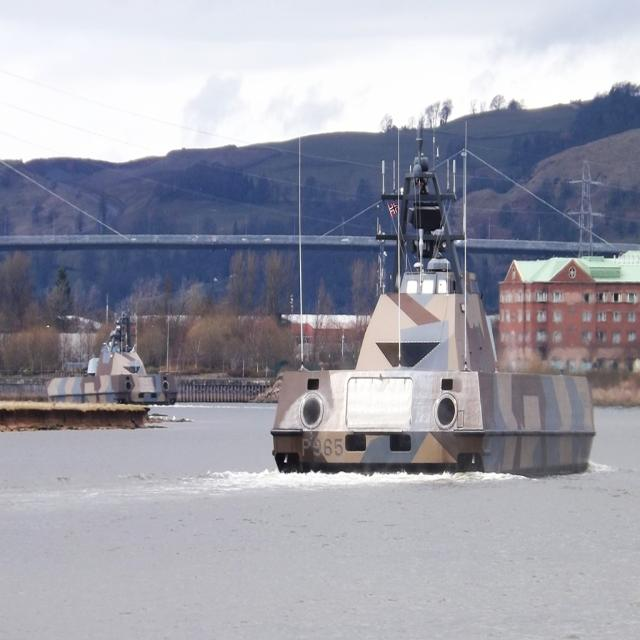Boat: (251, 127, 606, 484)
